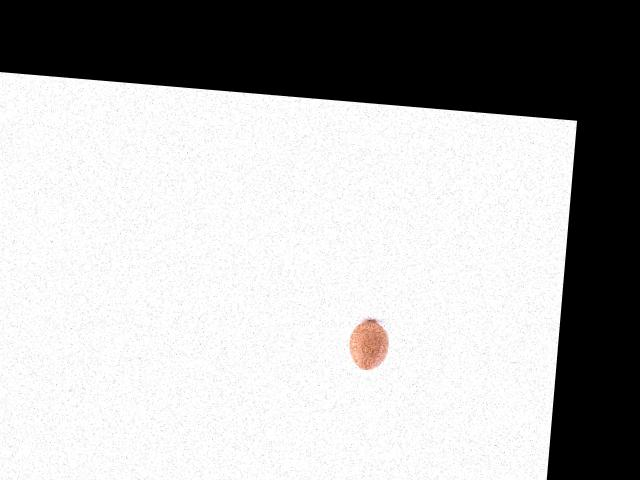egg: (348, 319, 391, 371)
